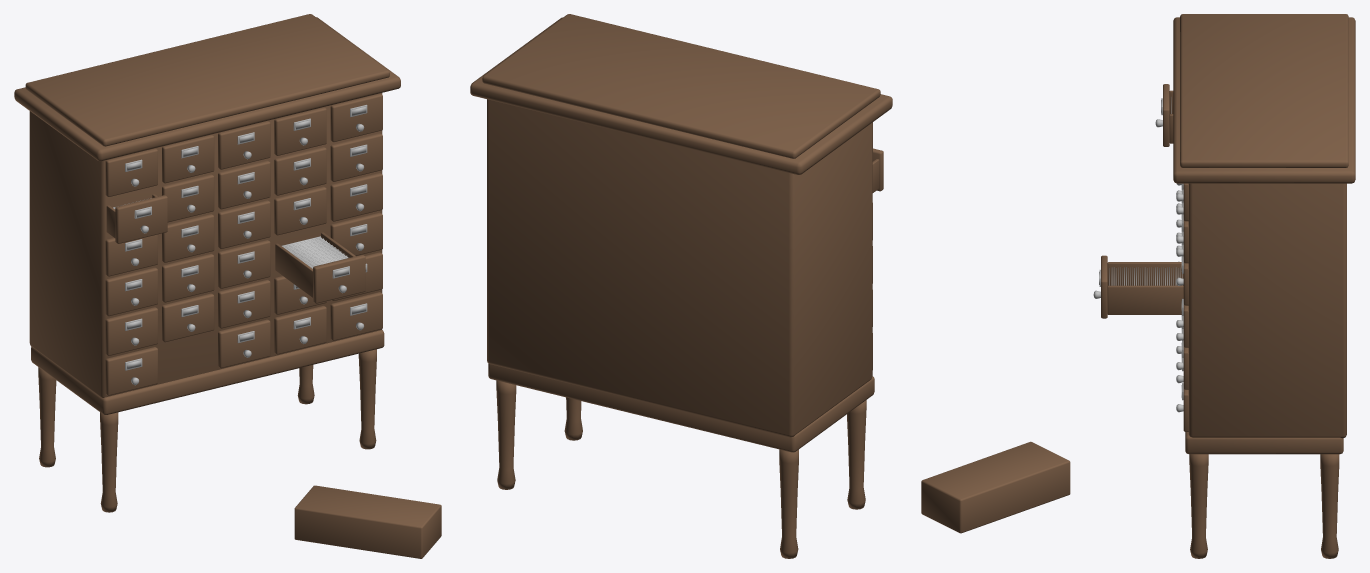
Rendered from fx_card_catalogue.glb.
The picture shows the model from 3 angles, left to right: view 1: azimuth 30°, elevation 25°; view 2: azimuth 150°, elevation 25°; view 3: azimuth 270°, elevation 25°; orthographic projection. The views are drawn at different scales.
Visible parts, largest first — view 1: fx_card_catalogue; view 2: fx_card_catalogue; view 3: fx_card_catalogue.
Part boxes in pixels (<box>): fx_card_catalogue: <box>14,14,441,558</box>; fx_card_catalogue: <box>470,14,892,558</box>; fx_card_catalogue: <box>921,14,1355,558</box>.
Size of the model in its own units: 1.08 by 1.29 by 1.26.
